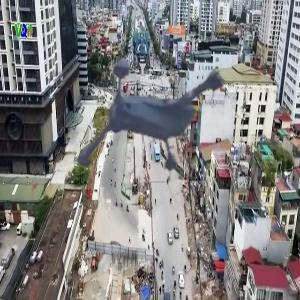drone: (74, 6, 258, 190)
